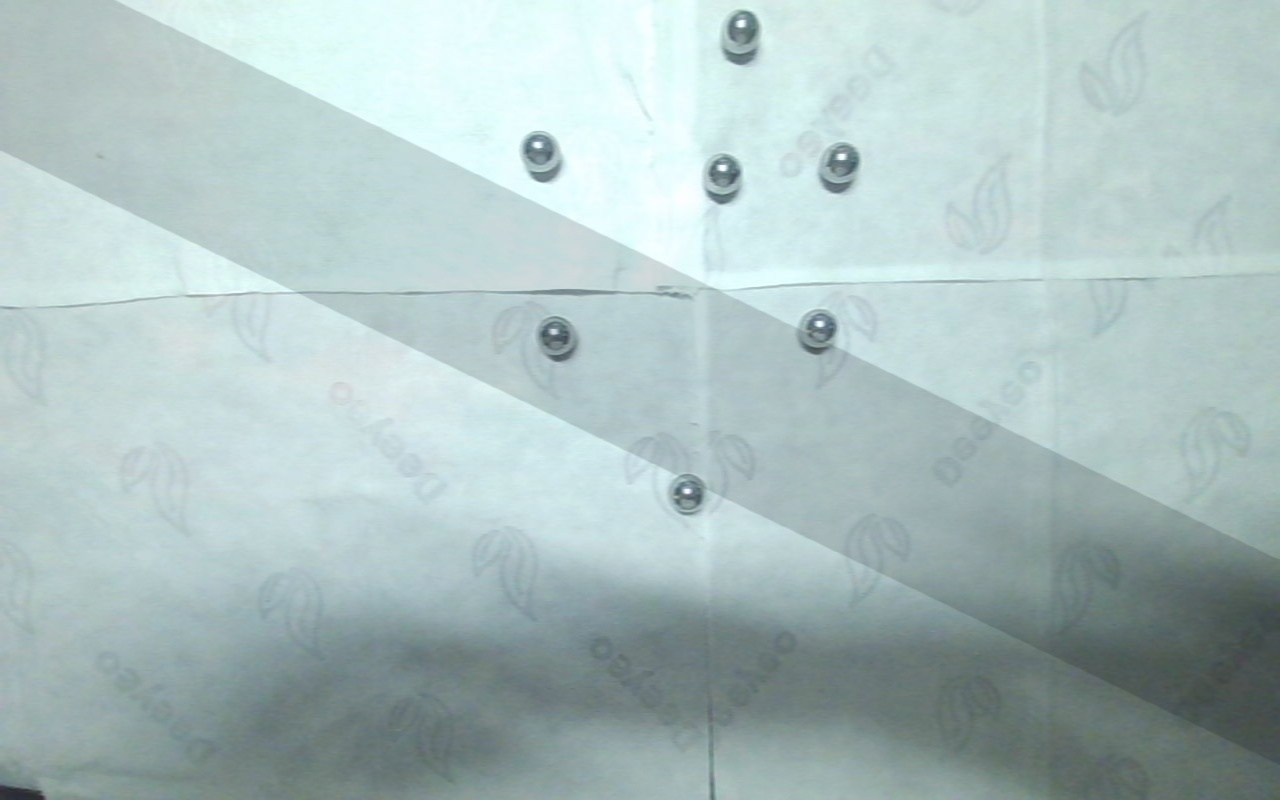ball: (519, 127, 562, 176), (819, 140, 863, 187), (796, 306, 840, 353), (720, 8, 763, 56), (536, 314, 578, 361), (667, 470, 709, 516), (702, 152, 743, 195)
